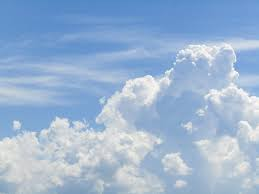sky: (2, 2, 259, 193)
